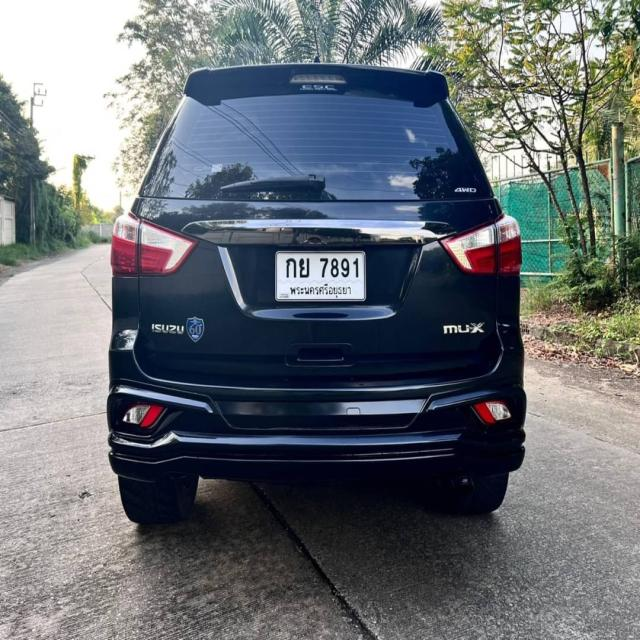license_plate: (270, 242, 371, 312)
